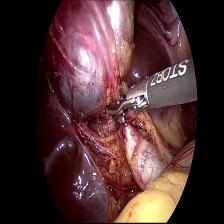Scissors: (103, 69, 151, 127)
